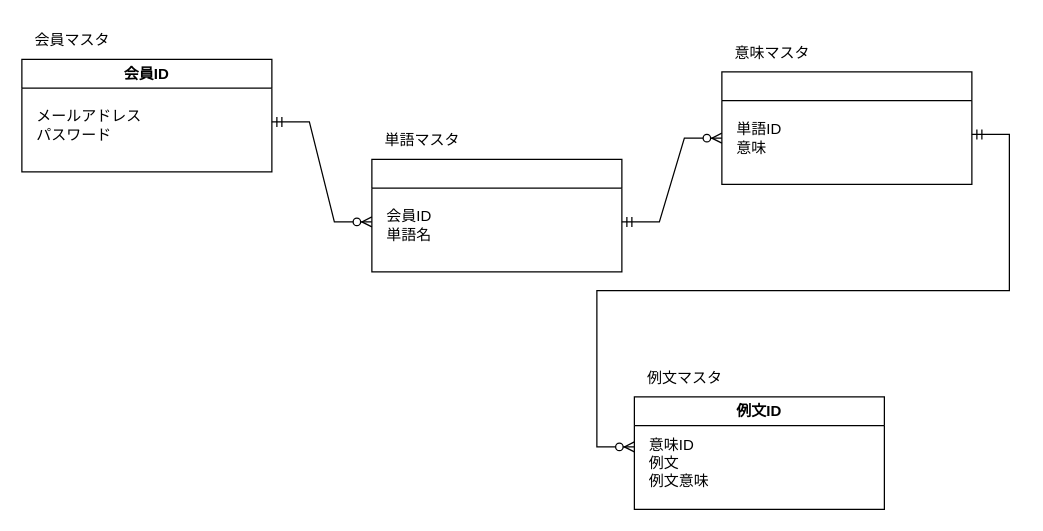
The diagram is 1043 pixels wide and 531 high, and some of its shapes have lost their labels. Each missing label, with the box of its shape:
単語ID: (371, 158, 622, 272)
意味ID: (721, 71, 972, 184)
